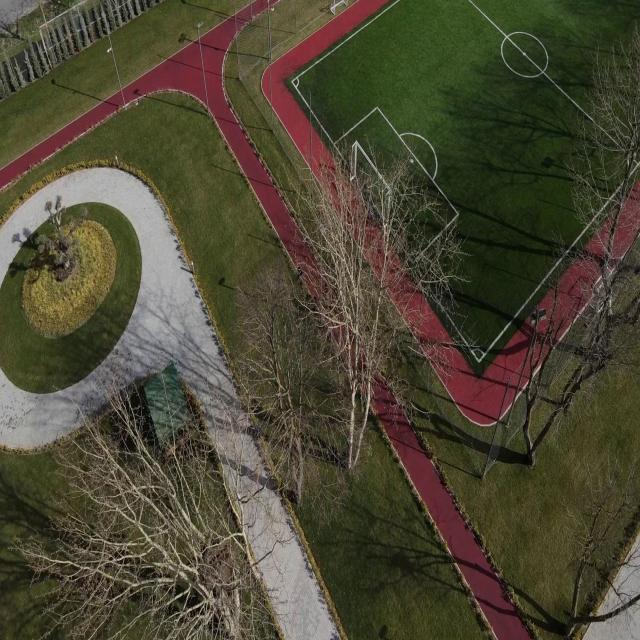p3rson: (322, 282, 330, 302), (332, 281, 338, 299)
